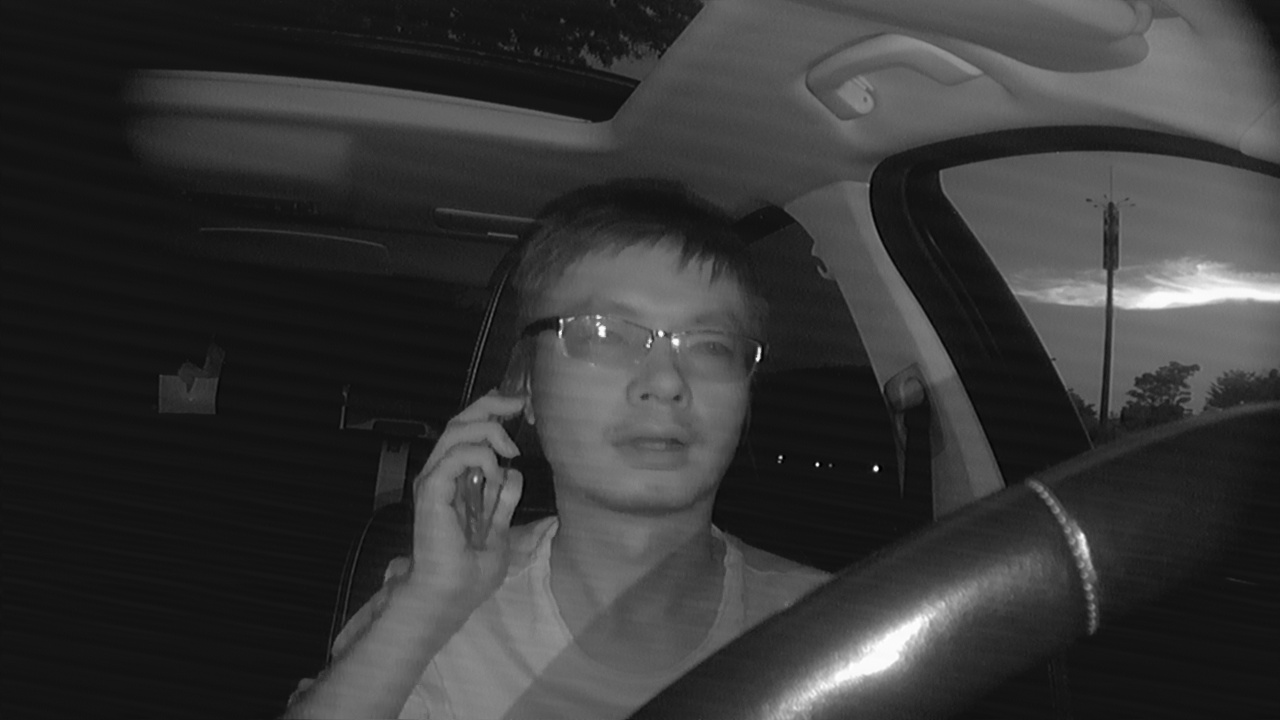hand: (393, 387, 526, 593)
